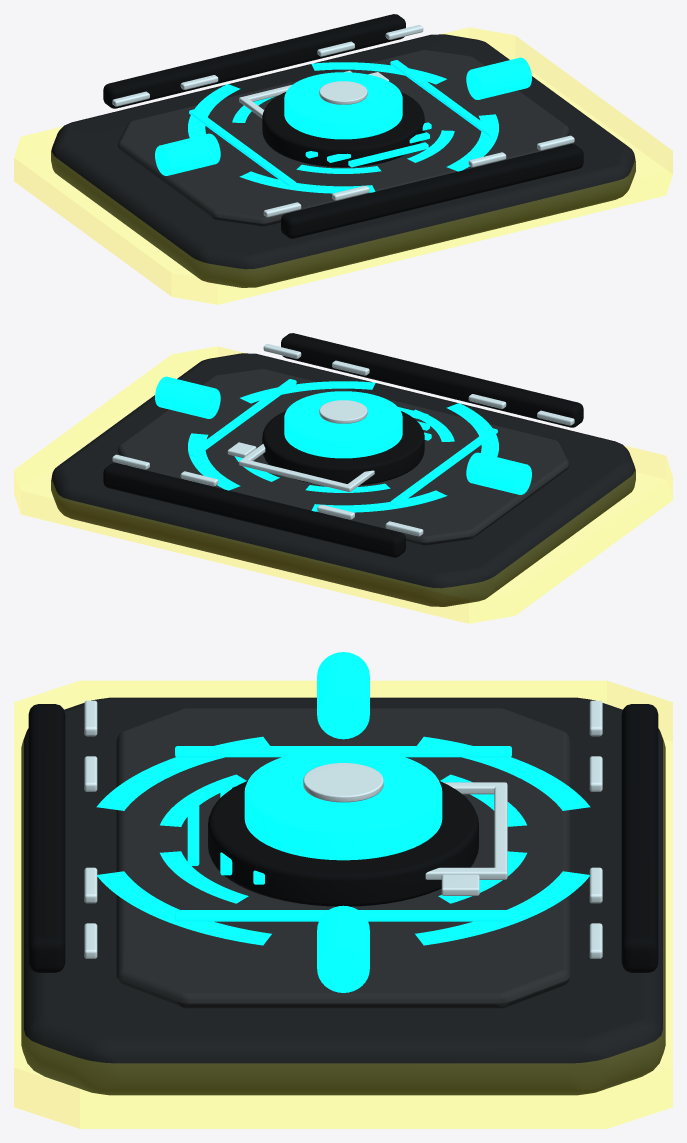
File: EnergyRecoveryPad.fbx
3 renders of one model, top to bottom at view 1: azimuth 30°, elevation 25°; view 2: azimuth 150°, elevation 25°; view 3: azimuth 270°, elevation 25°, orthographic. The views are drawn at different scales.
Parts seen in each view (by area): view 1: PadBase_DarkGunmetal, LocatorMarkerProxy, PadBase_RecessedTopPlate_Charcoal, PadBase_FrontDockLip_BlackMetal, PadBase_RearServiceLip_BlackMetal, EnergyCell_CyanCore, EnergyCell_CyanCore_Housing_BlackMetal, ChargeCoils_CyanEmissive_SideCapacitor_01, ChargeCoils_CyanEmissive_SideCapacitor_02, StatusTicks_BlueWhiteEmissive_SideGuide_01, StatusTicks_BlueWhiteEmissive_SideGuide_02, EnergyCell_CyanCore_InnerBlueWhiteDot (+7 smaller); view 2: PadBase_DarkGunmetal, LocatorMarkerProxy, PadBase_RecessedTopPlate_Charcoal, PadBase_RearServiceLip_BlackMetal, PadBase_FrontDockLip_BlackMetal, EnergyCell_CyanCore, EnergyCell_CyanCore_Housing_BlackMetal, ChargeCoils_CyanEmissive_SideCapacitor_01, ChargeCoils_CyanEmissive_SideCapacitor_02, StatusTicks_BlueWhiteEmissive_SideGuide_01, StatusTicks_BlueWhiteEmissive_SideGuide_02, EnergyCell_CyanCore_InnerBlueWhiteDot (+6 smaller); view 3: PadBase_DarkGunmetal, PadBase_RecessedTopPlate_Charcoal, LocatorMarkerProxy, EnergyCell_CyanCore, EnergyCell_CyanCore_Housing_BlackMetal, PadBase_FrontDockLip_BlackMetal, PadBase_RearServiceLip_BlackMetal, ChargeCoils_CyanEmissive_SideCapacitor_01, ChargeCoils_CyanEmissive_SideCapacitor_02, StatusTicks_BlueWhiteEmissive_SideGuide_02, StatusTicks_BlueWhiteEmissive_SideGuide_01, ChargeCoils_CyanEmissive_OuterArc_01 (+11 smaller).
Part boxes in pixels (x1,y1,x2,y2): PadBase_DarkGunmetal: [51, 34, 635, 287]; LocatorMarkerProxy: [14, 27, 672, 304]; PadBase_RecessedTopPlate_Charcoal: [117, 50, 569, 226]; PadBase_FrontDockLip_BlackMetal: [281, 144, 583, 238]; PadBase_RearServiceLip_BlackMetal: [103, 14, 405, 108]; EnergyCell_CyanCore: [284, 72, 402, 139]; EnergyCell_CyanCore_Housing_BlackMetal: [262, 92, 424, 167]; ChargeCoils_CyanEmissive_SideCapacitor_01: [155, 133, 220, 175]; ChargeCoils_CyanEmissive_SideCapacitor_02: [466, 57, 531, 99]; StatusTicks_BlueWhiteEmissive_SideGuide_01: [189, 109, 296, 187]; StatusTicks_BlueWhiteEmissive_SideGuide_02: [390, 60, 497, 138]; EnergyCell_CyanCore_InnerBlueWhiteDot: [319, 81, 367, 104]; PadBase_DarkGunmetal: [51, 353, 635, 606]; LocatorMarkerProxy: [14, 346, 672, 623]; PadBase_RecessedTopPlate_Charcoal: [117, 369, 569, 545]; PadBase_RearServiceLip_BlackMetal: [103, 463, 405, 557]; PadBase_FrontDockLip_BlackMetal: [281, 333, 583, 427]; EnergyCell_CyanCore: [284, 391, 402, 458]; EnergyCell_CyanCore_Housing_BlackMetal: [262, 411, 424, 485]; ChargeCoils_CyanEmissive_SideCapacitor_01: [466, 452, 531, 494]; ChargeCoils_CyanEmissive_SideCapacitor_02: [155, 376, 220, 418]; StatusTicks_BlueWhiteEmissive_SideGuide_01: [390, 428, 497, 506]; StatusTicks_BlueWhiteEmissive_SideGuide_02: [189, 379, 296, 457]; EnergyCell_CyanCore_InnerBlueWhiteDot: [319, 400, 367, 423]; PadBase_DarkGunmetal: [21, 697, 665, 1095]; PadBase_RecessedTopPlate_Charcoal: [116, 708, 570, 1008]; LocatorMarkerProxy: [14, 681, 672, 1128]; EnergyCell_CyanCore: [244, 748, 442, 860]; EnergyCell_CyanCore_Housing_BlackMetal: [208, 780, 478, 906]; PadBase_FrontDockLip_BlackMetal: [28, 704, 65, 972]; PadBase_RearServiceLip_BlackMetal: [621, 704, 658, 972]; ChargeCoils_CyanEmissive_SideCapacitor_01: [317, 652, 369, 739]; ChargeCoils_CyanEmissive_SideCapacitor_02: [317, 905, 369, 992]; StatusTicks_BlueWhiteEmissive_SideGuide_02: [175, 910, 511, 921]; StatusTicks_BlueWhiteEmissive_SideGuide_01: [175, 746, 511, 757]; ChargeCoils_CyanEmissive_OuterArc_01: [415, 871, 589, 945].
Size of the model in its own units: 1.32 by 0.219 by 0.9.
